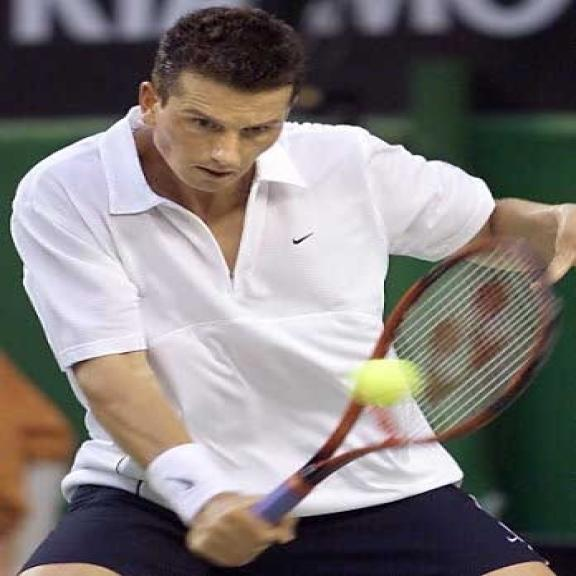face: (136, 56, 310, 198)
